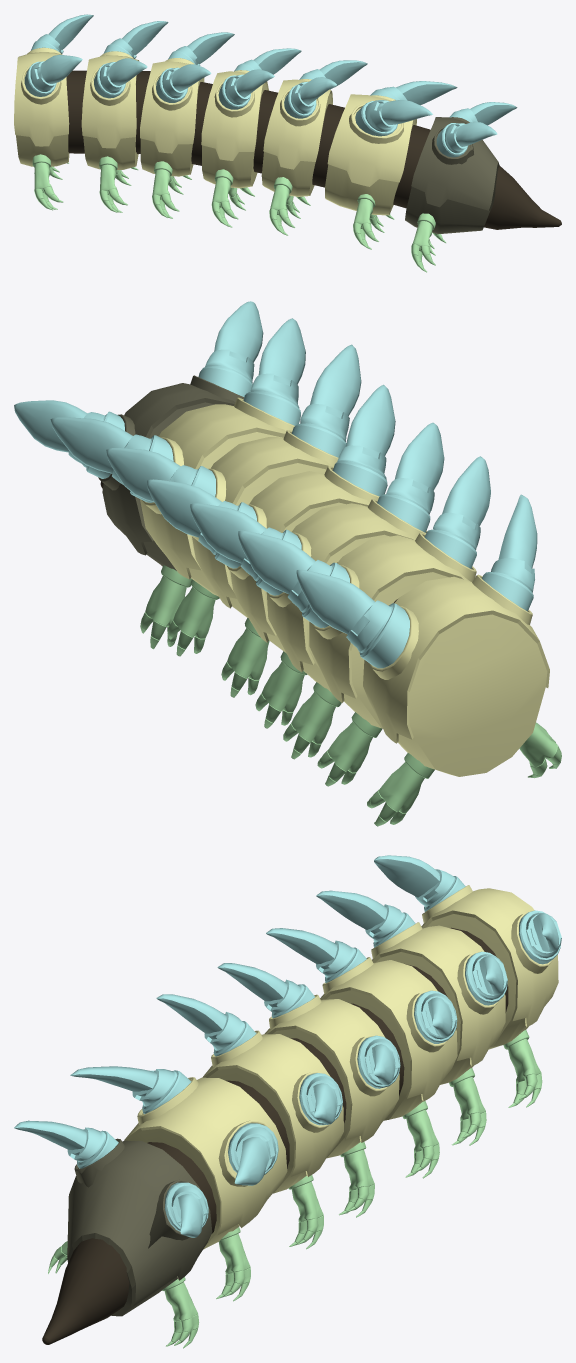
Rendered from Tail1.fbx.
3 renders of one model, top to bottom at view 1: azimuth 30°, elevation 25°; view 2: azimuth 150°, elevation 25°; view 3: azimuth 270°, elevation 25°, orthographic. The views are drawn at different scales.
Visible parts, largest first — view 1: Spike22 (×7), Spike24 (×7), BodyPart9, BodyPart3, Claw4 (×6), BodyPart4, BodyPart5, BodyPart6, BodyPart7, BodyPart8, Tail, Joint6 (+6 smaller); view 2: Spike22 (×7), BodyPart8, Spike24 (×7), Claw3 (×6), BodyPart7, BodyPart3, BodyPart6, BodyPart4, BodyPart5, BodyPart9, Claw8, Claw4; view 3: Spike22 (×7), BodyPart9, Spike24 (×7), BodyPart3, Claw3 (×6), BodyPart4, BodyPart6, BodyPart8, BodyPart5, BodyPart7, Tail, Claw8 (+2 smaller).
Part boxes in pixels (x1,y1,x2,y2): Spike22 (×7): (24, 54, 497, 157); Spike24 (×7): (31, 14, 517, 125); BodyPart9: (405, 117, 499, 234); BodyPart3: (325, 94, 416, 215); Claw4 (×6): (32, 154, 435, 272); BodyPart4: (261, 79, 332, 196); BodyPart5: (201, 70, 268, 188); BodyPart6: (140, 58, 204, 176); BodyPart7: (81, 51, 138, 169); BodyPart8: (14, 47, 69, 166); Tail: (484, 166, 561, 229); Joint6: (66, 70, 86, 153); Spike22 (×7): (198, 301, 537, 611); BodyPart8: (363, 574, 549, 776); Spike24 (×7): (14, 400, 409, 668); Claw3 (×6): (140, 565, 434, 826); BodyPart7: (309, 532, 476, 728); BodyPart3: (140, 397, 294, 596); BodyPart6: (266, 499, 427, 692); BodyPart4: (190, 430, 338, 617); BodyPart5: (227, 466, 379, 652); BodyPart9: (98, 375, 244, 570); Claw8: (167, 579, 219, 656); Claw4: (519, 722, 561, 777); Spike22 (×7): (14, 855, 465, 1168); BodyPart9: (67, 1138, 212, 1316); Spike24 (×7): (164, 910, 561, 1237); BodyPart3: (124, 1077, 287, 1249); Claw3 (×6): (162, 1030, 542, 1348); BodyPart4: (202, 1030, 343, 1193); BodyPart6: (320, 957, 457, 1120); BodyPart8: (421, 885, 558, 1049); BodyPart5: (264, 994, 399, 1158); BodyPart7: (371, 922, 505, 1084); Tail: (42, 1238, 129, 1344); Claw8: (216, 1227, 250, 1301).
Bounding box in the file's own units: 7.22 × 3.57 × 5.98.
